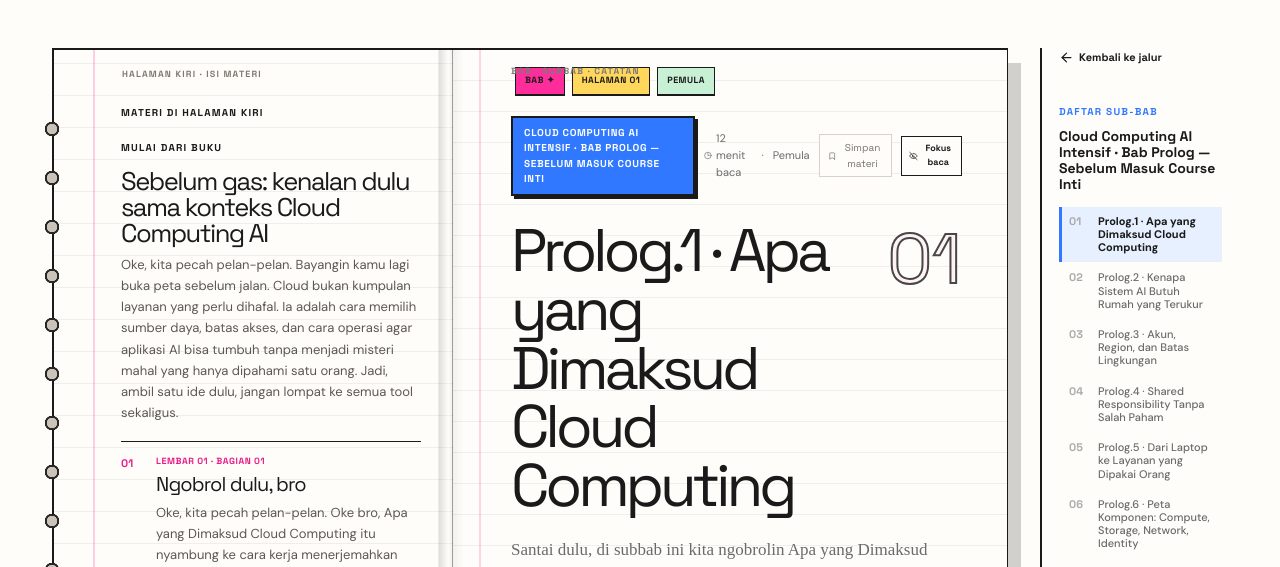
Test: MaterialDetail reading settings › toggles focus mode while retaining the section page markers
The image size is (1280, 567).
Expected: the text "Lembar 01 · bagian 01" is shown, [156,455,265,467]
Click the button with aria-label "Sembunyikan daftar isi untuk fokus" at (931, 156), box [901,136,961,176]
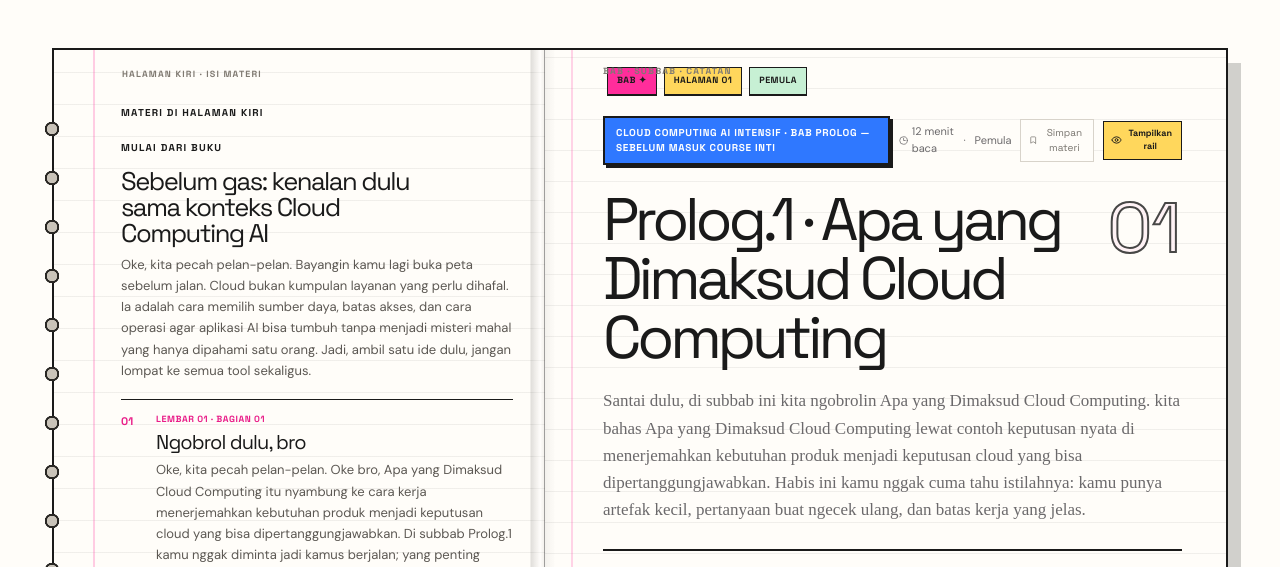
Expected: the button with aria-label "Tampilkan daftar isi" is shown, [1102,120,1181,160]
